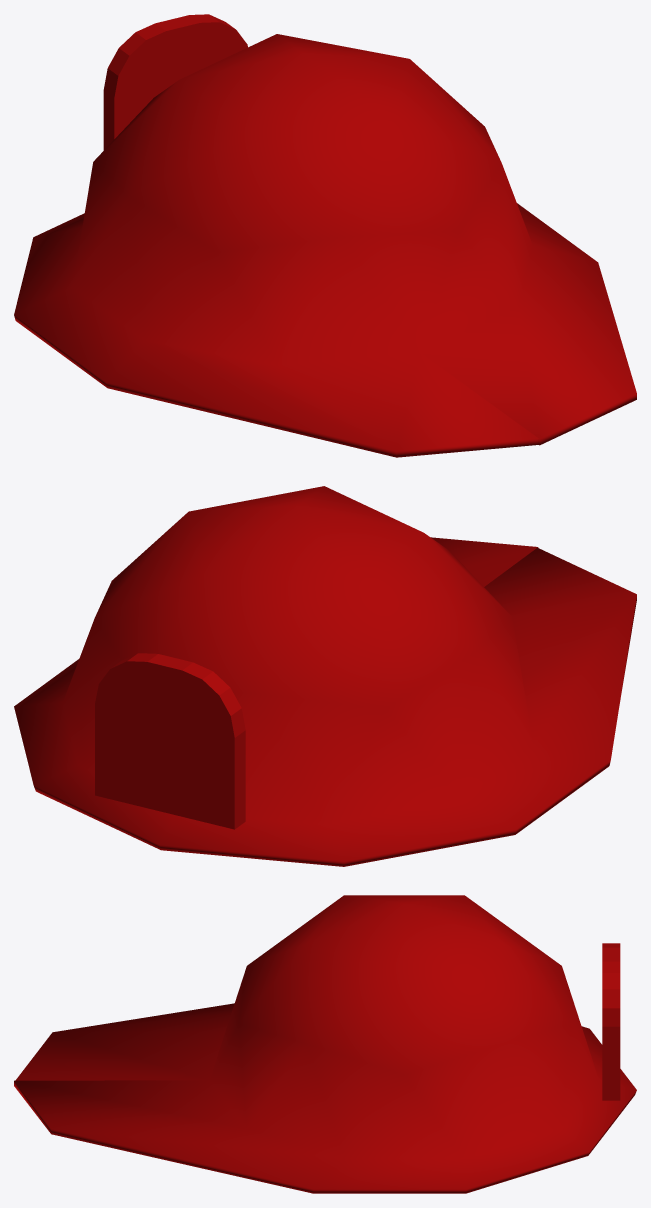
File: fireman-hat.fbx
3 views of the same model, one above another, from view 1: azimuth 30°, elevation 25°; view 2: azimuth 150°, elevation 25°; view 3: azimuth 270°, elevation 25° (orthographic). The views are drawn at different scales.
Parts seen in each view (by area): view 1: FiremanHat; view 2: FiremanHat; view 3: FiremanHat.
Boxes of the visible parts, <box> form: FiremanHat: <box>14,14,636,457</box>; FiremanHat: <box>14,486,636,866</box>; FiremanHat: <box>14,895,636,1193</box>.
Size of the model in its own units: 241 by 110 by 320.
